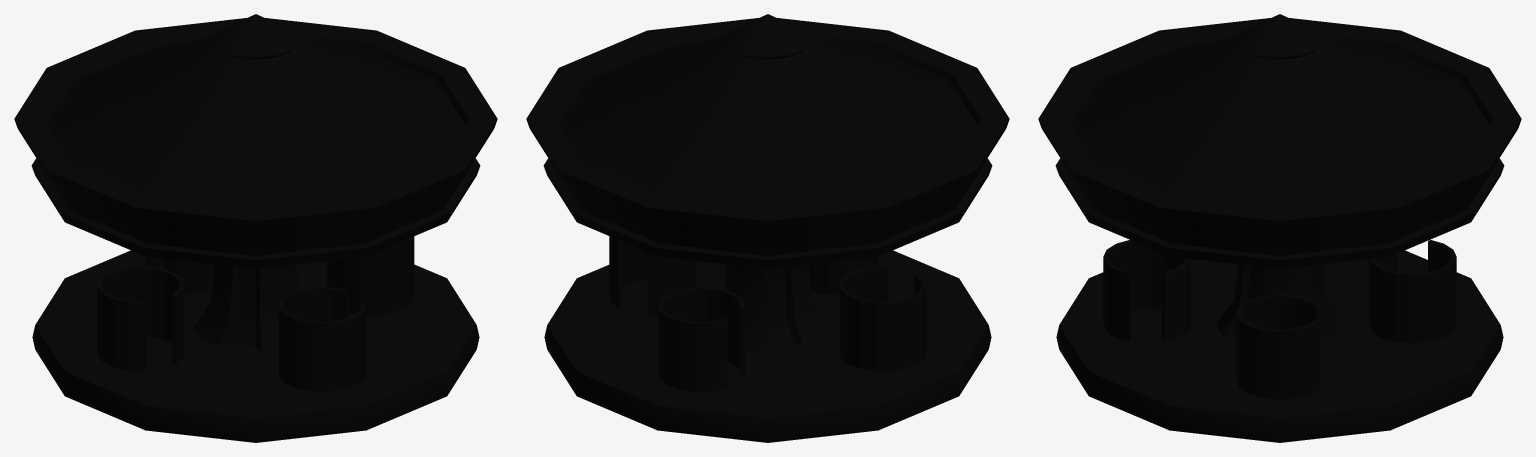
Rendered from teacup_collide.obj.
The picture shows the model from 3 angles, left to right: view 1: azimuth 30°, elevation 25°; view 2: azimuth 150°, elevation 25°; view 3: azimuth 270°, elevation 25°; orthographic projection.
Parts seen in each view (by area): view 1: teacup_collide; view 2: teacup_collide; view 3: teacup_collide.
Part boxes in pixels (x1=…): teacup_collide: x1=14, y1=14, x2=497, y2=442; teacup_collide: x1=526, y1=14, x2=1009, y2=442; teacup_collide: x1=1038, y1=14, x2=1521, y2=442.
Bounding box in the file's own units: 7.84 × 6.01 × 7.84.
1 material, 1 textured.
